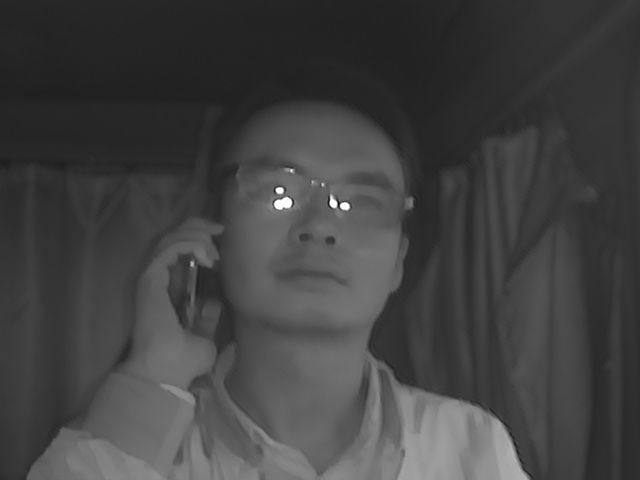hand: (124, 214, 233, 378)
